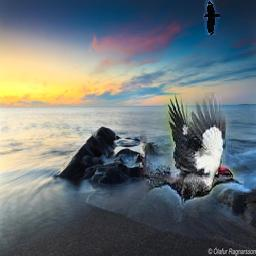Crow: (204, 1, 221, 36)
Woodpecker: (140, 92, 244, 222)
